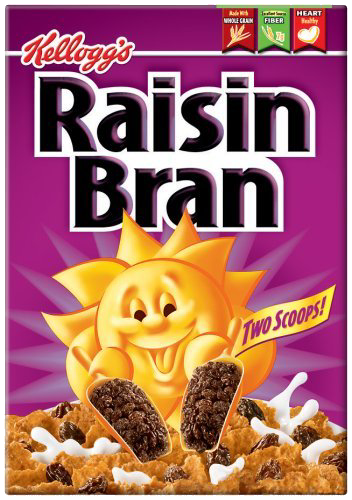grozi_94: (5, 5, 347, 494)
